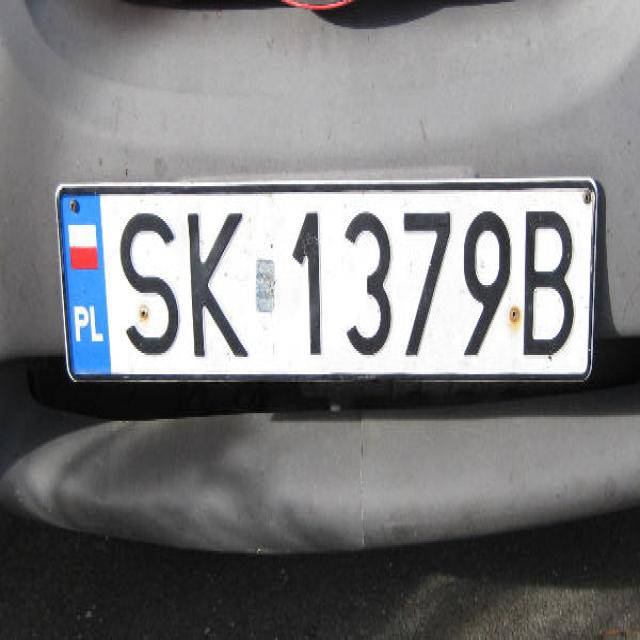pl_license_plate: (61, 188, 591, 369)
